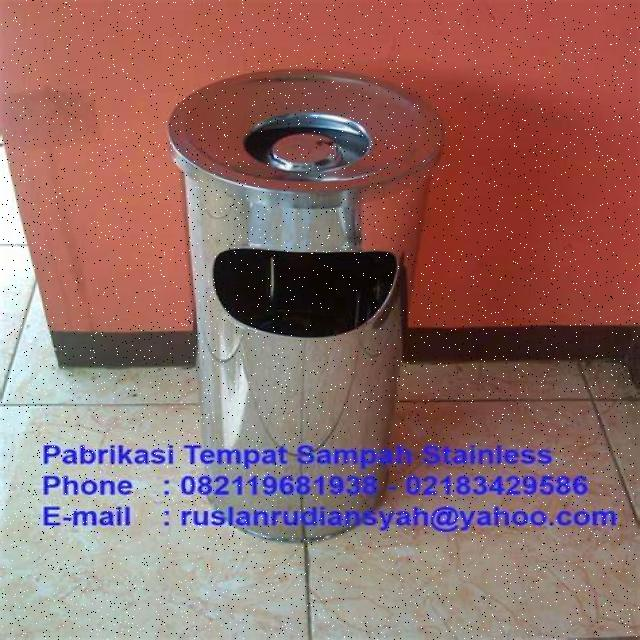garbage container: (138, 58, 551, 438)
